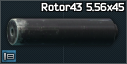Rotor 43 5.56x45 muzzle brake: (0, 0, 127, 64)
